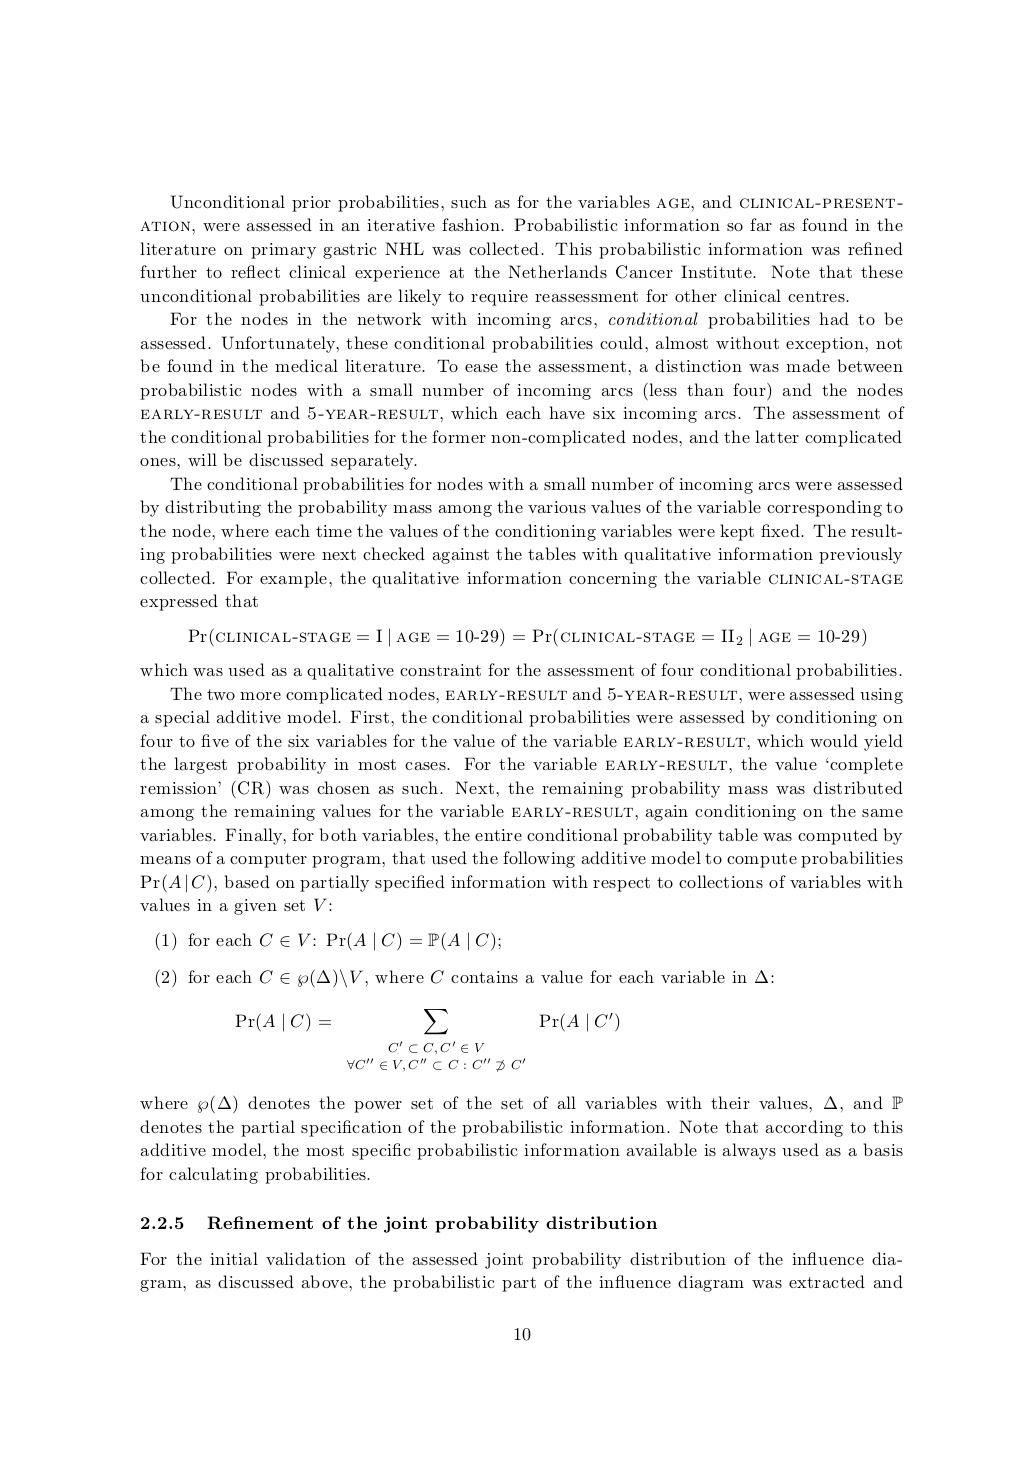formula: (235, 1009, 619, 1071)
